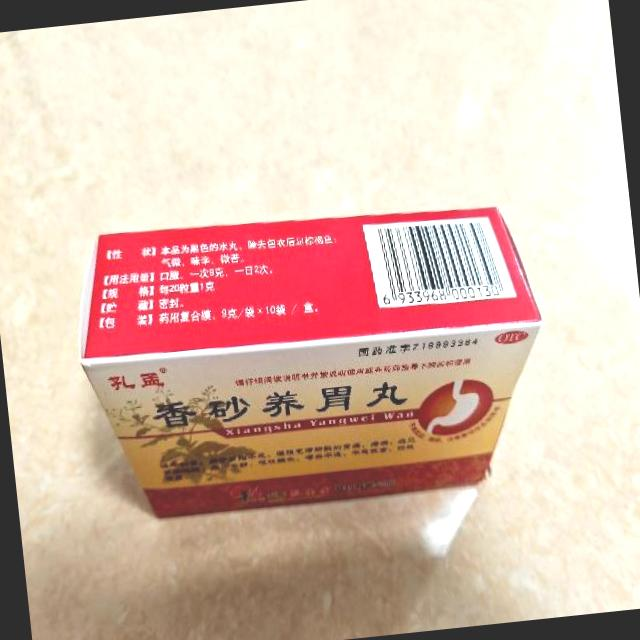box: (65, 187, 558, 524)
